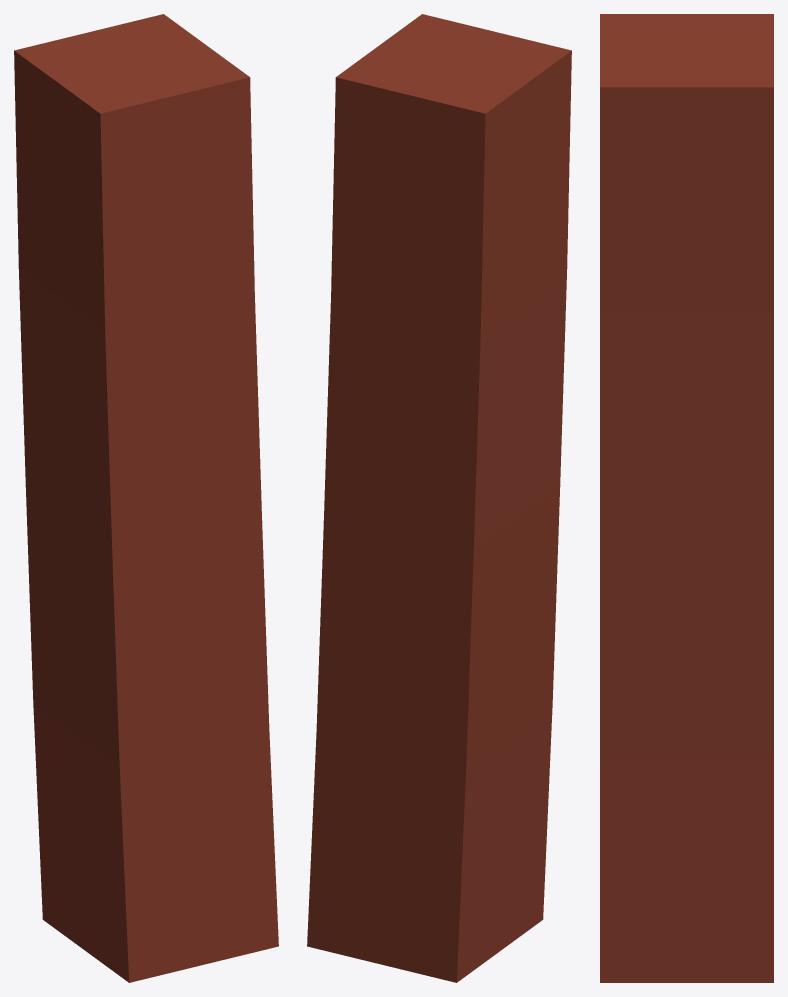
File: wood_1a.fbx
3 views of the same model, side by side, from view 1: azimuth 30°, elevation 25°; view 2: azimuth 150°, elevation 25°; view 3: azimuth 270°, elevation 25° (orthographic).
Visible parts, largest first — view 1: wood_1a; view 2: wood_1a; view 3: wood_1a.
Boxes of the visible parts, left/top/right/bottom form: wood_1a: left=14, top=14, right=278, bottom=982; wood_1a: left=307, top=14, right=571, bottom=982; wood_1a: left=600, top=14, right=773, bottom=982.
Size of the model in its own units: 44.19 by 207 by 37.07.
